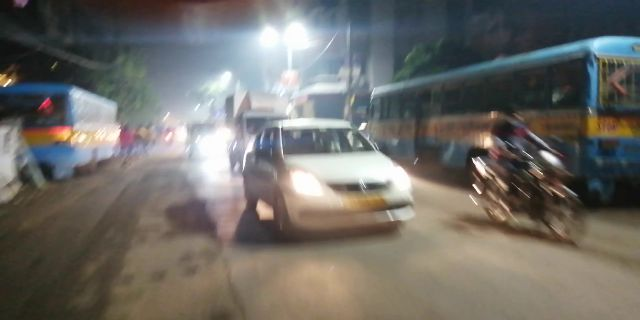Bus: (363, 33, 640, 212), (3, 79, 121, 170)
Car: (256, 112, 418, 235)
Motorbike: (462, 106, 589, 245)
